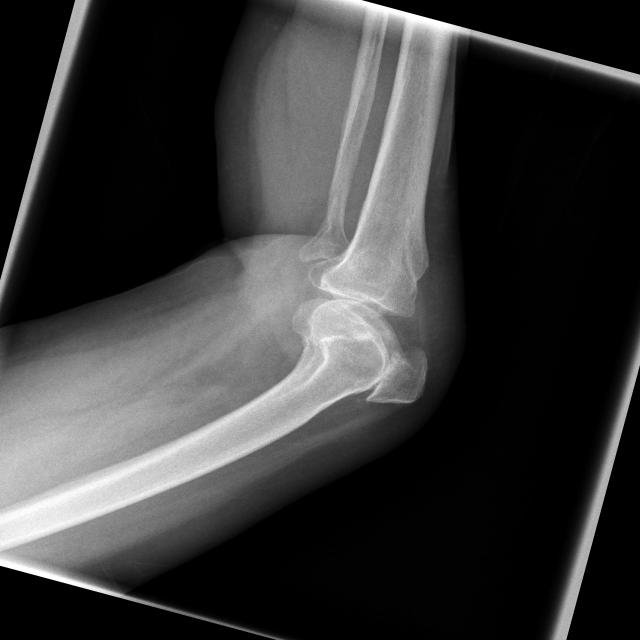Knee: (270, 234, 454, 419)
